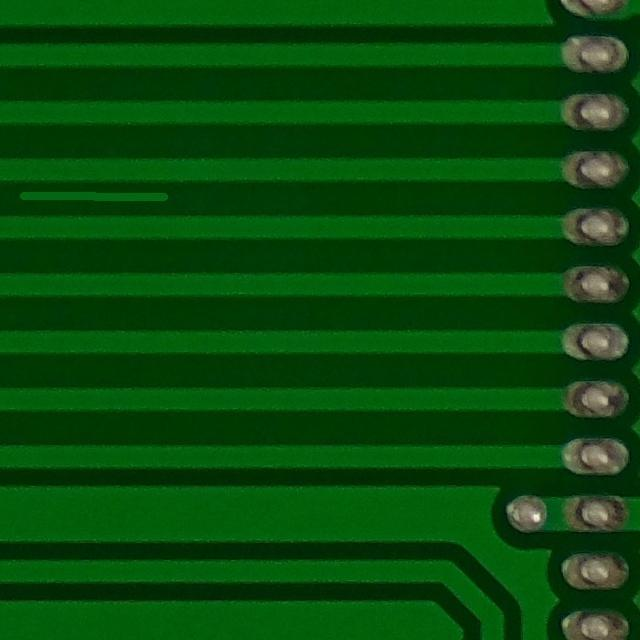spurious_copper: (2, 166, 174, 217)
